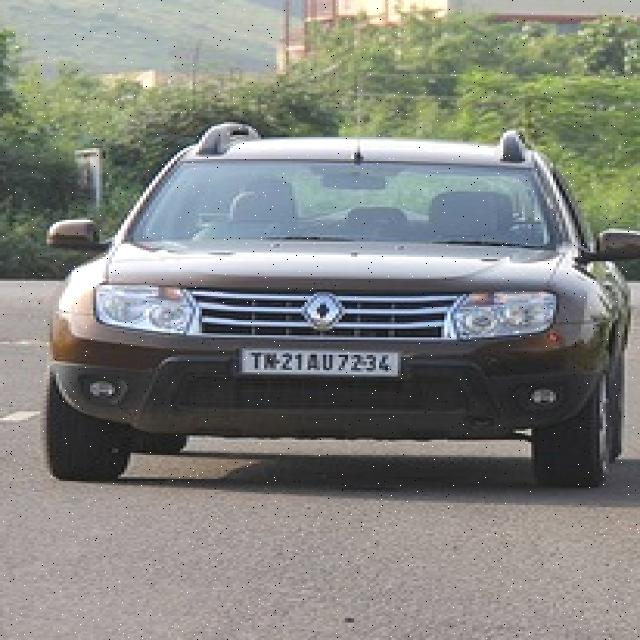plate: (233, 344, 401, 377)
